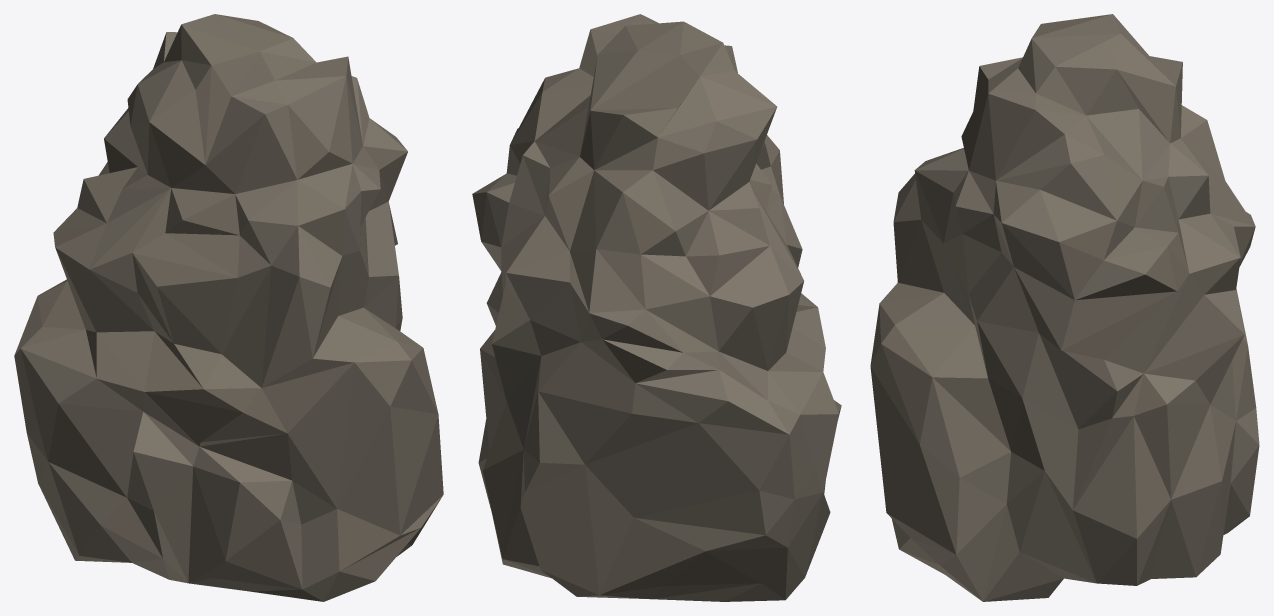
File: RockBig_04.glb
The picture shows the model from 3 angles, left to right: view 1: azimuth 30°, elevation 25°; view 2: azimuth 150°, elevation 25°; view 3: azimuth 270°, elevation 25°; orthographic projection. The views are drawn at different scales.
Parts seen in each view (by area): view 1: RockBig_04; view 2: RockBig_04; view 3: RockBig_04.
Part boxes in pixels (x1,y1,x2,y2): RockBig_04: [14, 14, 443, 601]; RockBig_04: [472, 14, 841, 601]; RockBig_04: [870, 14, 1259, 601].
Size of what is drawn, in the model's own units: 5.18 by 7.82 by 5.34.
1 material, 1 textured.
